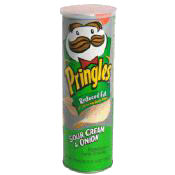grozi_35: (61, 4, 114, 173)
